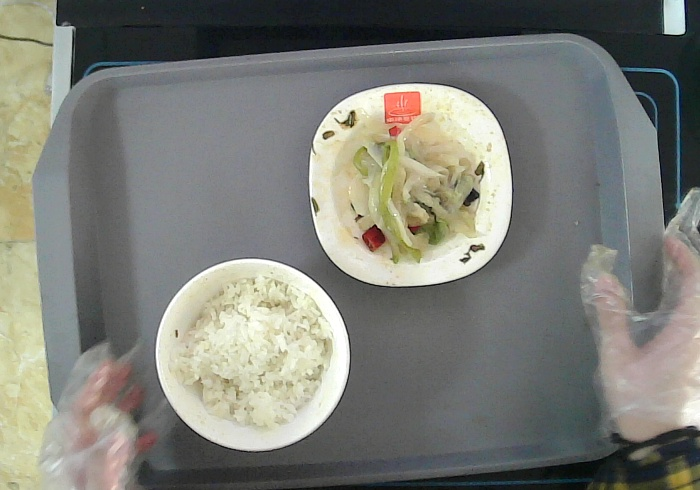SHKJ-Bai_Se_Si_Fang_Cai_Die: (307, 81, 515, 288)
SHKJ-Fan_Wan: (152, 255, 352, 453)
